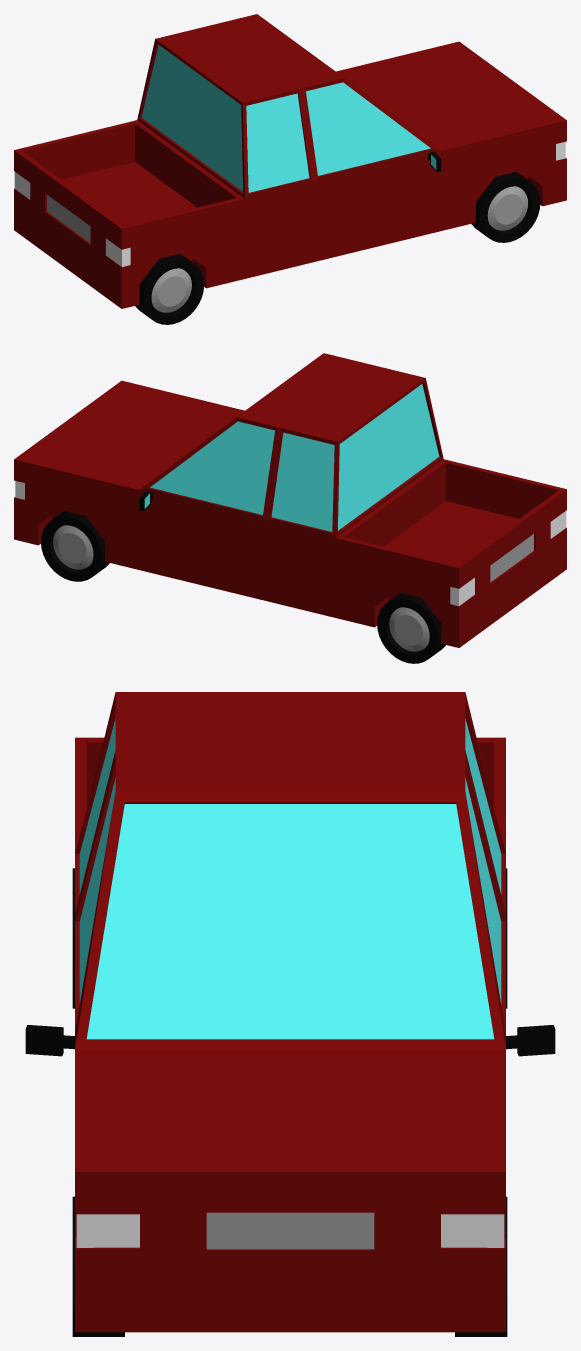
File: Car2.fbx
3 views of the same model, one above another, from view 1: azimuth 30°, elevation 25°; view 2: azimuth 150°, elevation 25°; view 3: azimuth 270°, elevation 25° (orthographic). The views are drawn at different scales.
Visible parts, largest first — view 1: Car2; view 2: Car2; view 3: Car2.
Boxes of the visible parts, <box> form: Car2: <box>14,14,566,324</box>; Car2: <box>14,353,566,663</box>; Car2: <box>25,692,555,1336</box>.
Size of the model in its own units: 477 by 199 by 246.
